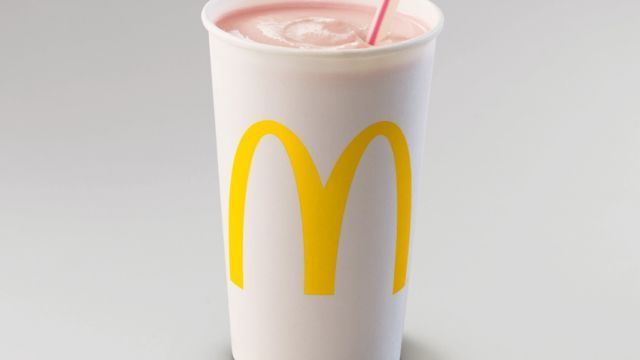mcdonalds: (223, 116, 415, 297)
